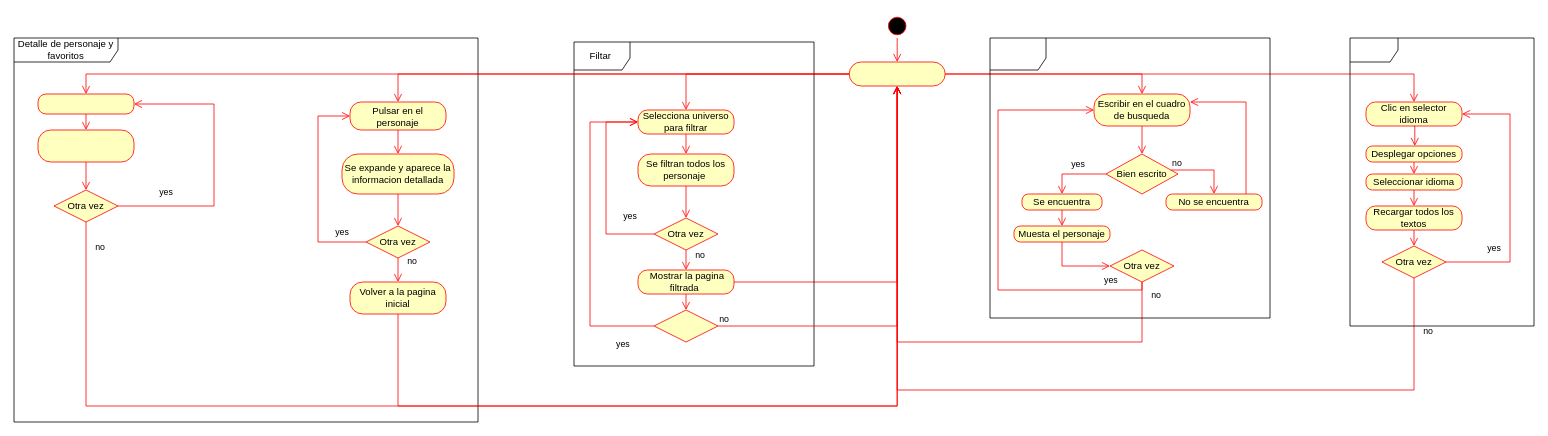
Some shapes in this 1548 by 436 pixel diagram are drawn without their labels. Here are the shapes that lost their labels. From the top down, the centre of each, then its label:
the point at 896,73: Mostrar pagina inicial
the point at 85,103: Pulsar en favorito
the point at 85,145: Se guarda en favoritos
the point at 1129,177: Buscar personaje
the point at 1441,181: Cambio idioma
the point at 685,325: Sigue
